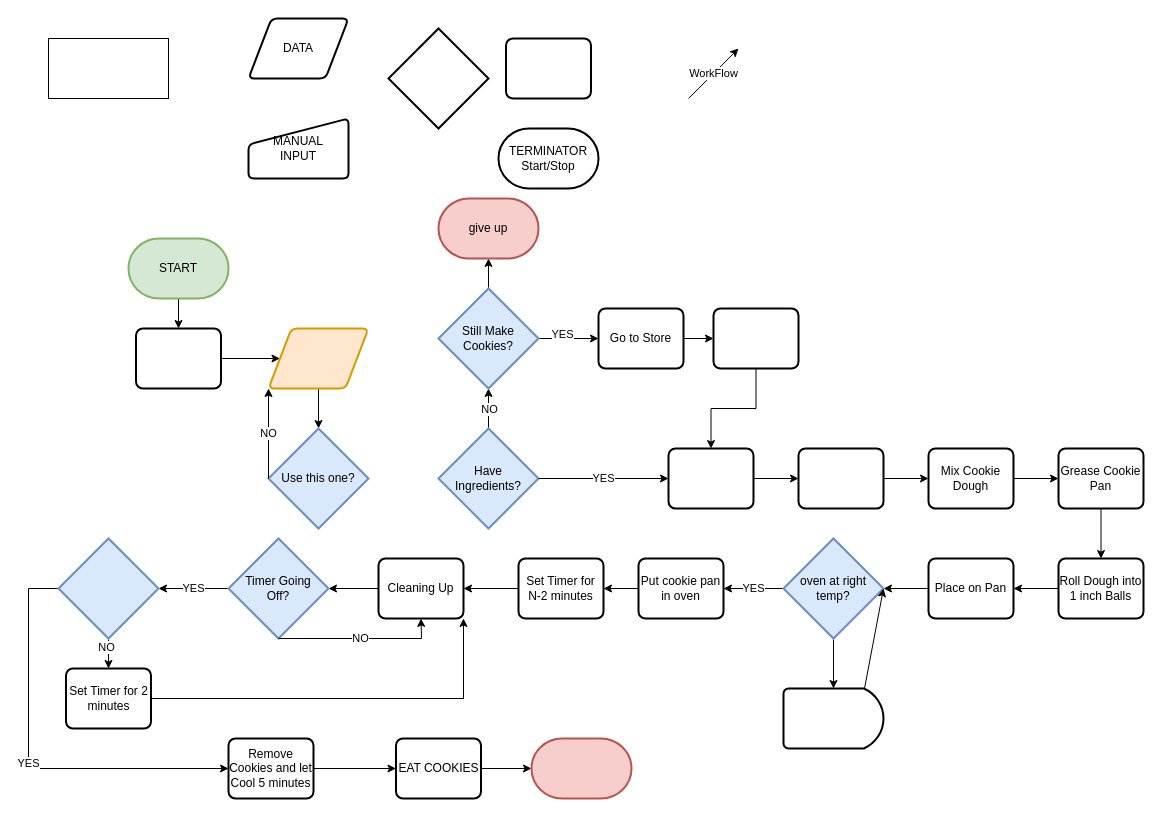
This 1161x816 diagram has some shape labels left out. Each missing label, with the centre of its shape:
Are Cookies Done?: the point at 108,588
Buy Missing Ingredients: the point at 755,338
Choose One Recipe: the point at 318,358
Clint MacDonald May 11, 2025 Week 2 - Demo: the point at 108,68
DECISION: the point at 438,78
Find Recipies: the point at 178,358
Get out bowls and Tools: the point at 840,478
Preheat Oven to 400 C: the point at 710,478
PROCESS: the point at 548,68
STOP: the point at 581,768
Wait 3 minutes: the point at 833,718
